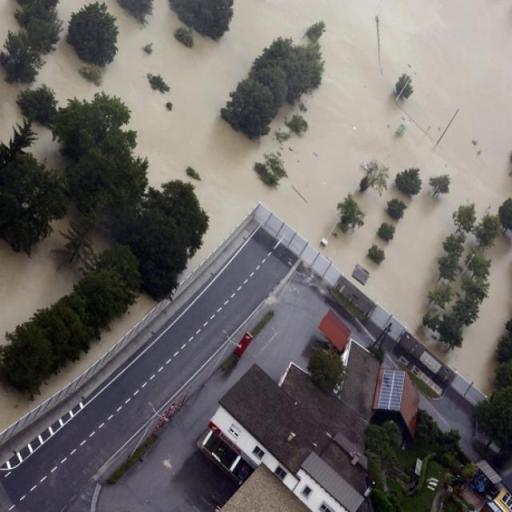flood: (0, 0, 512, 394), (0, 296, 154, 430), (0, 220, 78, 341), (0, 0, 19, 49)
house: (196, 362, 362, 504), (373, 363, 422, 441)
